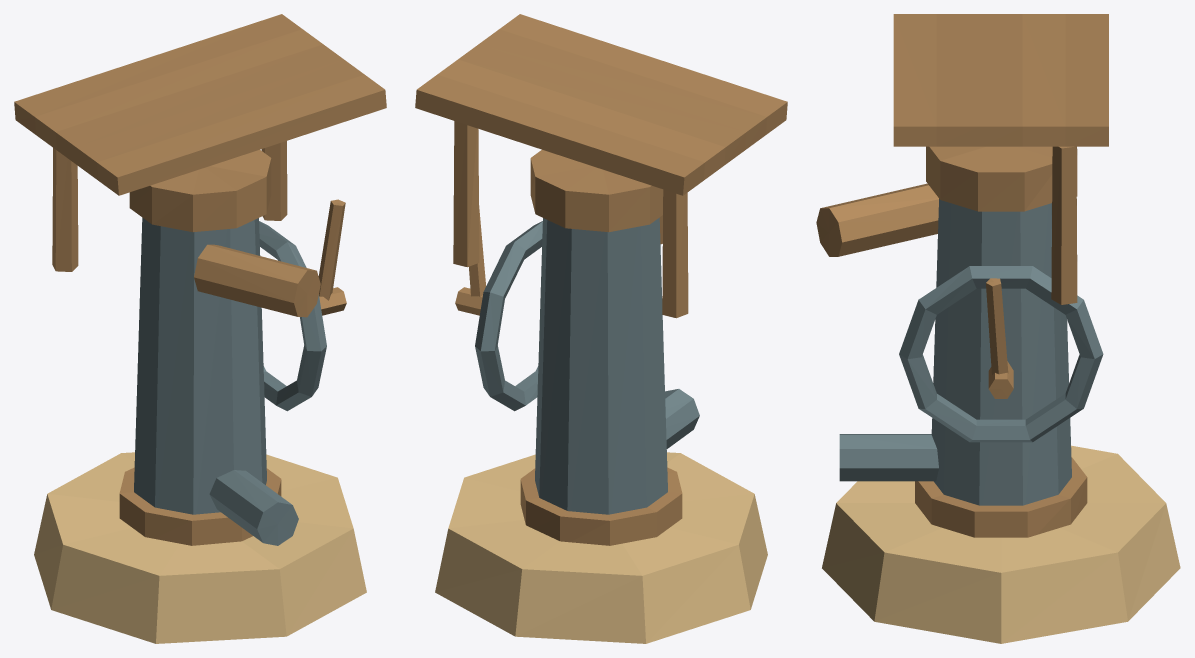
The model's file is Oasis-Pump.glb.
3 views of the same model, side by side, from view 1: azimuth 30°, elevation 25°; view 2: azimuth 150°, elevation 25°; view 3: azimuth 270°, elevation 25° (orthographic). The views are drawn at different scales.
Parts seen in each view (by area): view 1: wind-pump-static-oasis-pump-canopy-timber-mat, wind-pump-static-oasis-pump-dark-iron-mat, wind-pump-static-oasis-pump-sandstone-mat, wind-pump-static-oasis-pump-muted-teal-mat, wind-pump-static-oasis-pump-brass-mat; view 2: wind-pump-static-oasis-pump-canopy-timber-mat, wind-pump-static-oasis-pump-dark-iron-mat, wind-pump-static-oasis-pump-sandstone-mat, wind-pump-static-oasis-pump-muted-teal-mat, wind-pump-static-oasis-pump-brass-mat; view 3: wind-pump-static-oasis-pump-dark-iron-mat, wind-pump-static-oasis-pump-sandstone-mat, wind-pump-static-oasis-pump-canopy-timber-mat, wind-pump-static-oasis-pump-muted-teal-mat, wind-pump-static-oasis-pump-brass-mat.
Part boxes in pixels (x1=…): wind-pump-static-oasis-pump-canopy-timber-mat: x1=14, y1=14, x2=386, y2=271; wind-pump-static-oasis-pump-dark-iron-mat: x1=134, y1=217, x2=326, y2=545; wind-pump-static-oasis-pump-sandstone-mat: x1=34, y1=452, x2=366, y2=643; wind-pump-static-oasis-pump-muted-teal-mat: x1=119, y1=149, x2=320, y2=545; wind-pump-static-oasis-pump-brass-mat: x1=318, y1=199, x2=346, y2=315; wind-pump-static-oasis-pump-canopy-timber-mat: x1=415, y1=14, x2=787, y2=318; wind-pump-static-oasis-pump-dark-iron-mat: x1=475, y1=217, x2=699, y2=514; wind-pump-static-oasis-pump-sandstone-mat: x1=435, y1=452, x2=767, y2=643; wind-pump-static-oasis-pump-muted-teal-mat: x1=520, y1=149, x2=682, y2=545; wind-pump-static-oasis-pump-brass-mat: x1=455, y1=205, x2=485, y2=315; wind-pump-static-oasis-pump-dark-iron-mat: x1=839, y1=199, x2=1103, y2=505; wind-pump-static-oasis-pump-sandstone-mat: x1=822, y1=445, x2=1180, y2=643; wind-pump-static-oasis-pump-canopy-timber-mat: x1=893, y1=14, x2=1108, y2=304; wind-pump-static-oasis-pump-muted-teal-mat: x1=816, y1=146, x2=1087, y2=537; wind-pump-static-oasis-pump-brass-mat: x1=986, y1=278, x2=1013, y2=398.
Size of the model in its own units: 1 by 1.57 by 1.02.
